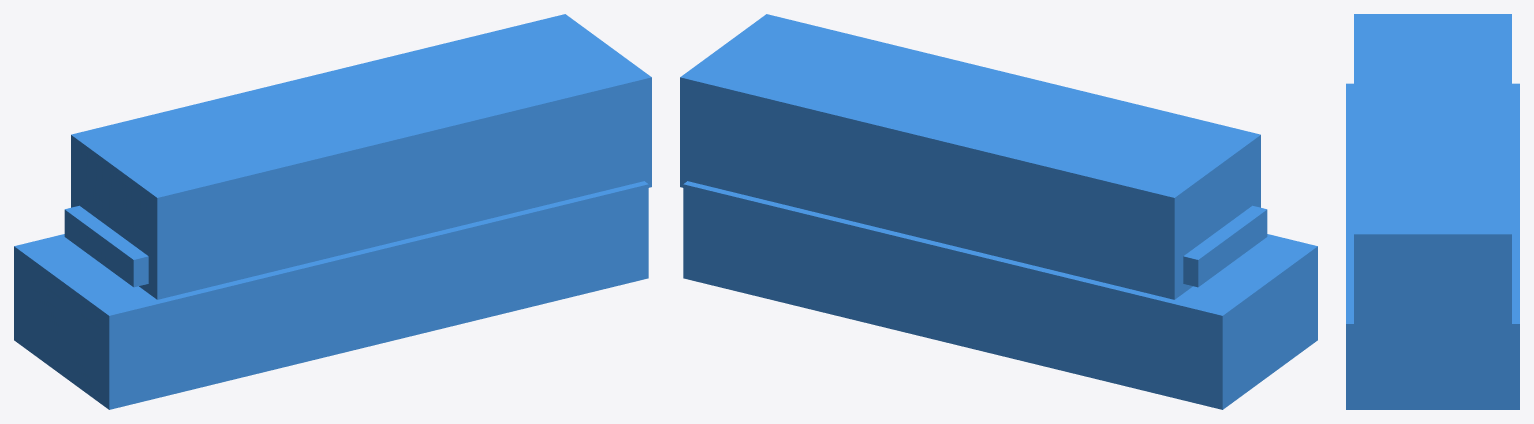
The model's file is stapler.obj.
3 renders of one model, left to right at view 1: azimuth 30°, elevation 25°; view 2: azimuth 150°, elevation 25°; view 3: azimuth 270°, elevation 25°, orthographic. The views are drawn at different scales.
Parts seen in each view (by area): view 1: stapler-top, stapler-base, tiny-staples; view 2: stapler-top, stapler-base, tiny-staples; view 3: stapler-top, stapler-base.
Part boxes in pixels (x1,y1,x2,y2): stapler-top: [71, 14, 651, 299]; stapler-base: [14, 181, 648, 409]; tiny-staples: [64, 205, 148, 287]; stapler-top: [680, 14, 1260, 299]; stapler-base: [683, 181, 1317, 409]; tiny-staples: [1183, 205, 1267, 287]; stapler-top: [1354, 14, 1511, 334]; stapler-base: [1346, 83, 1519, 409].
Bounding box in the file's own units: 0.73 × 0.25 × 0.22.
